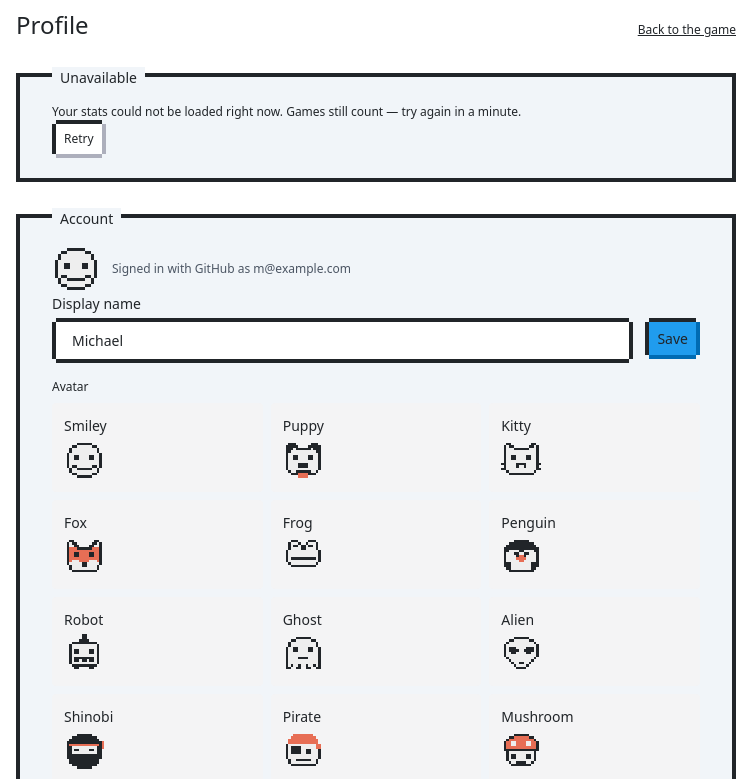
Scenario: signed in › degrades to the unavailable panel with a retry
Expected: the text "stats could not be loaded right now" is shown, [52,103,521,120]
What coordinates should you click on to do the following:
click the button "Retry"
I would click on:
 (79, 139)
Its box is [56,124,102,154].
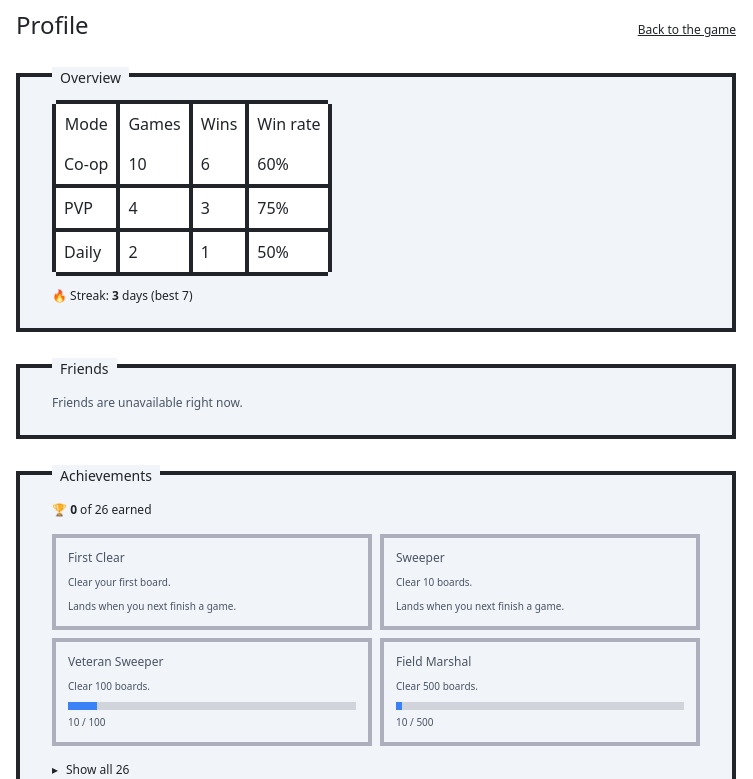
Now the table named "Games and wins by mode" is shown, box [56,104,328,272]
